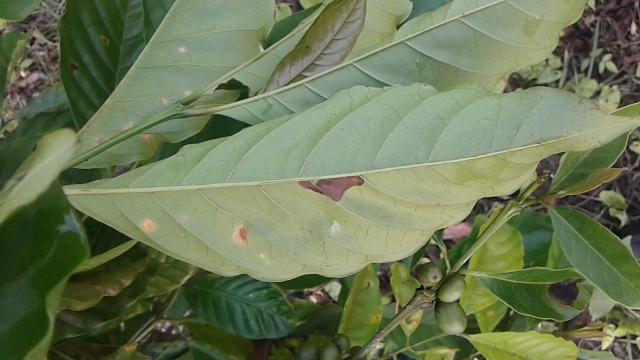rust_level_1: (62, 77, 640, 284)
